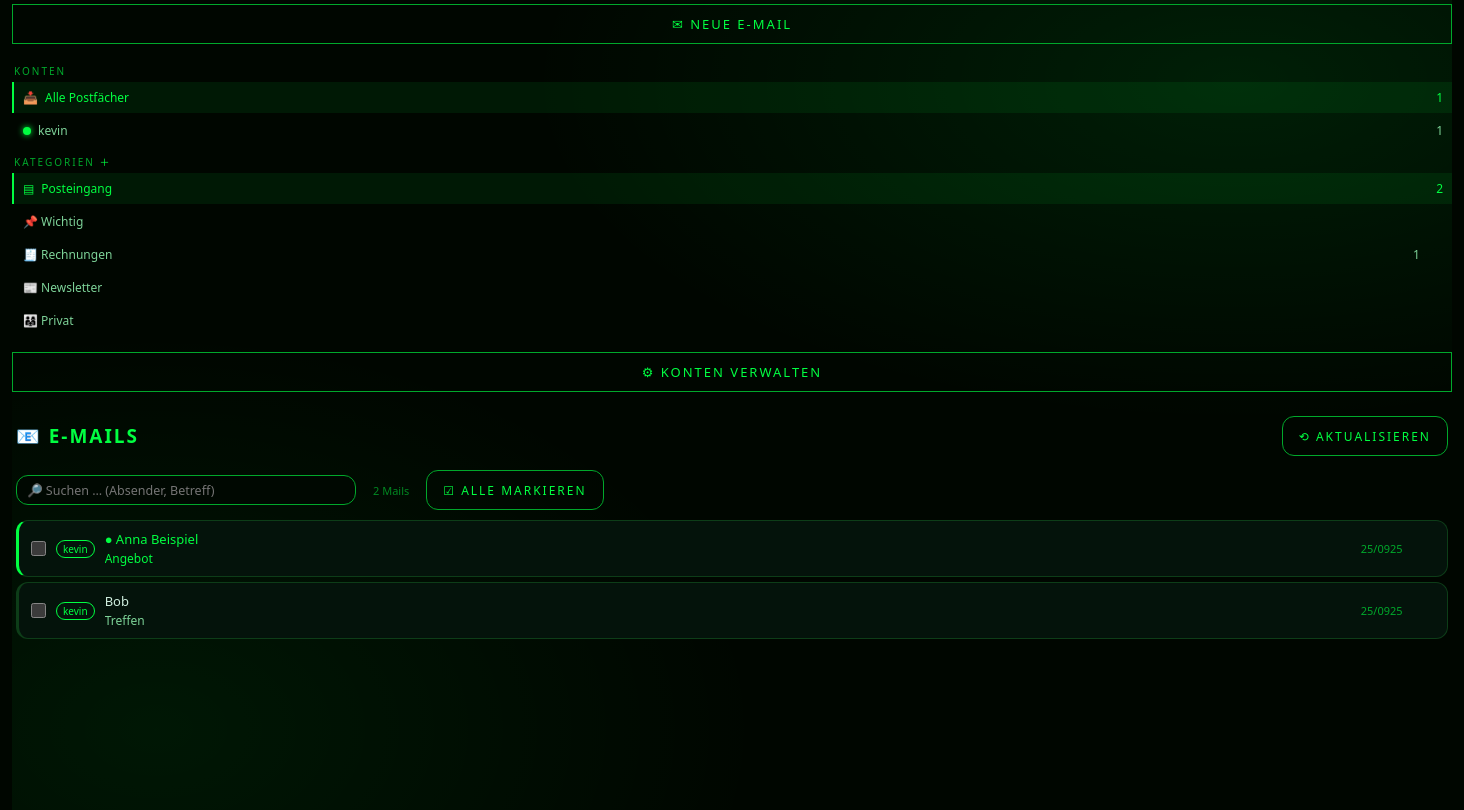
Test: Lesen und Schreiben › Neue E-Mail: ohne Empfänger kein Versand; Serverfehler wird gezeigt
This screenshot has width=1464, height=810.
expect the text "Angebot" is shown: met, box [105,550,153,567]
Step 1. Click the button "✉ NEUE E-MAIL" → click(732, 24), box [12,4,1452,44]
(page scrolled)
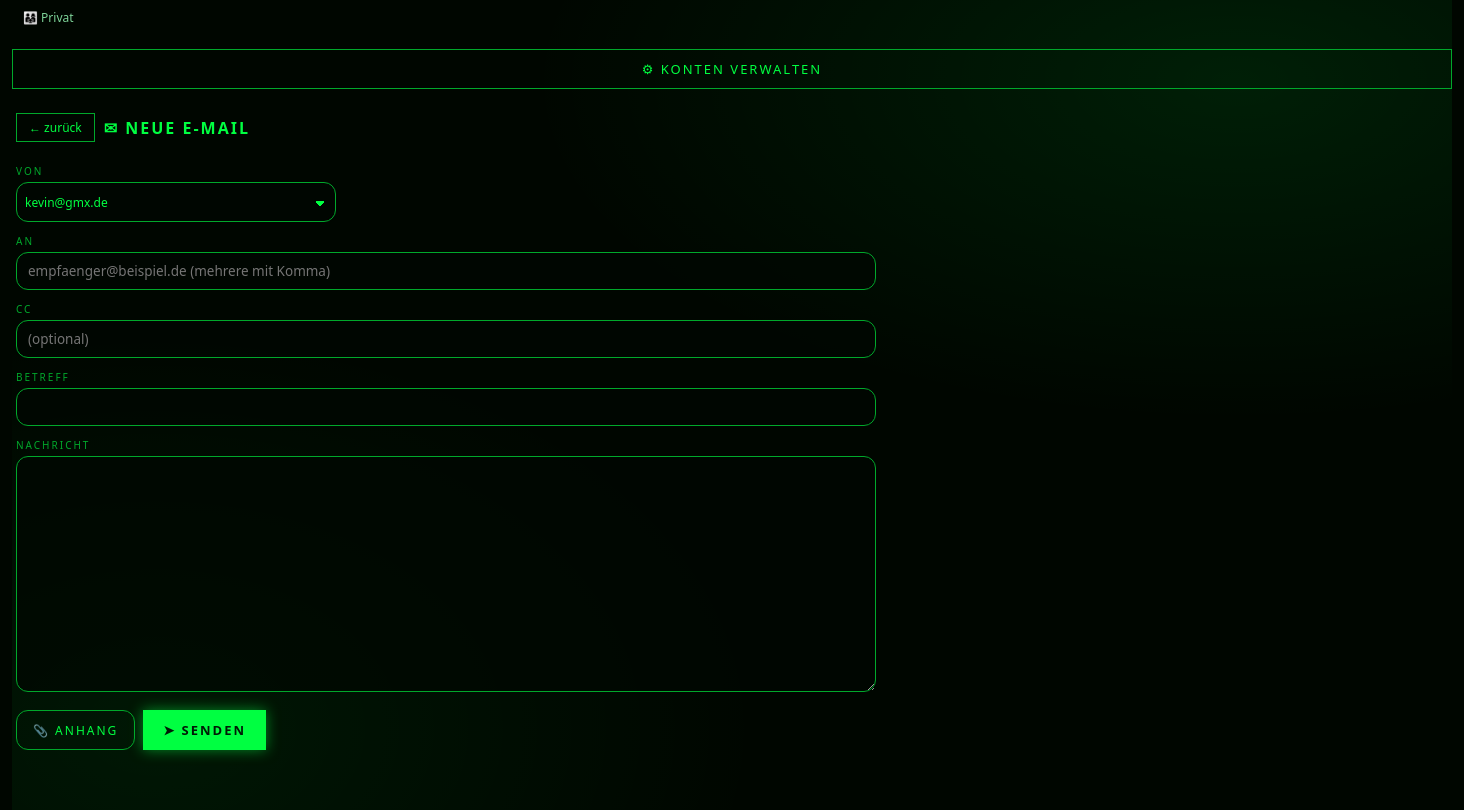
expect the heading "✉ NEUE E-MAIL" is shown: met, box [104,116,250,138]
Step 2. Click the button "➤ SENDEN" → click(205, 730), box [143,710,266,750]
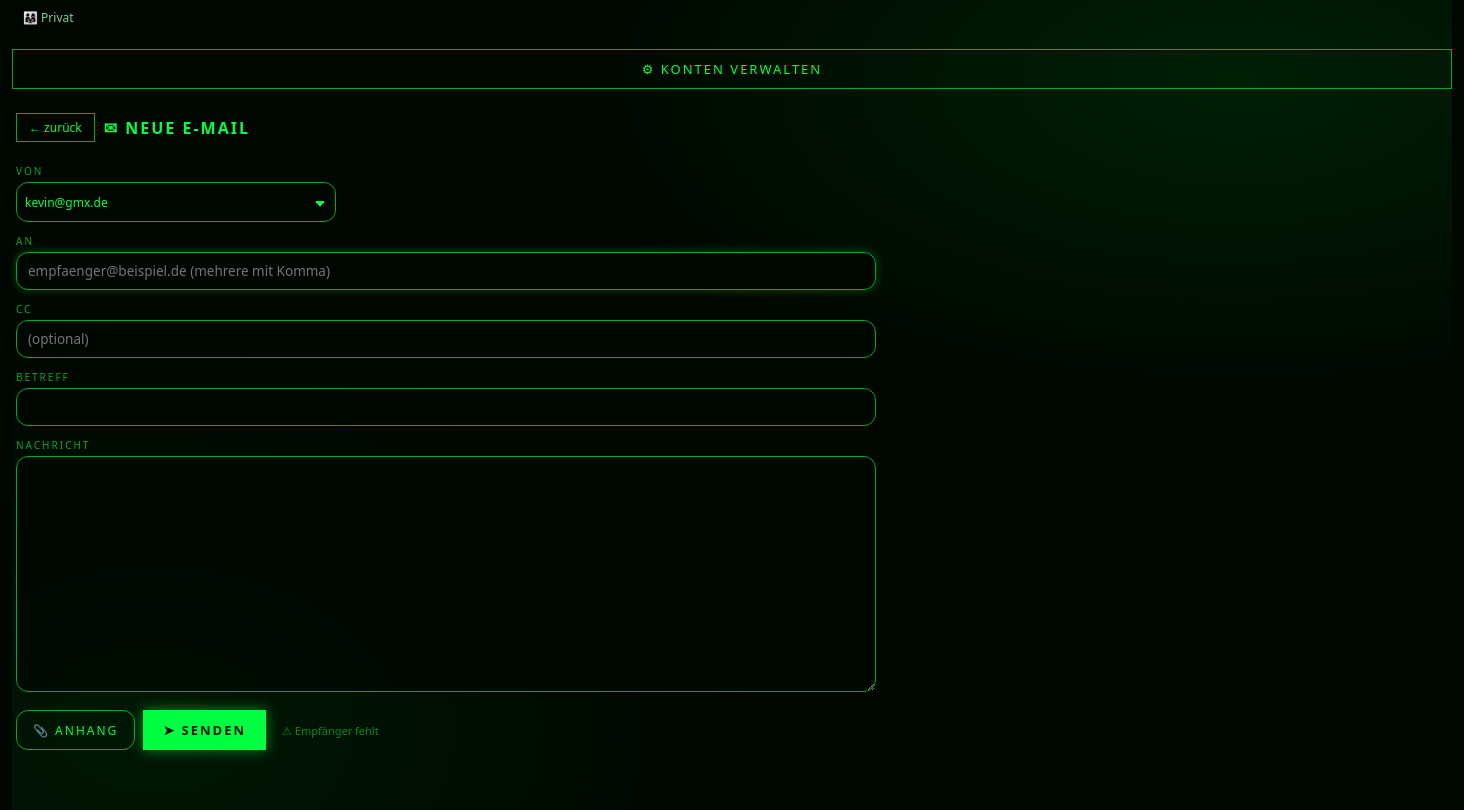
expect the text "⚠ Empfänger fehlt" is shown: met, box [282,722,379,738]
Step 3. Type "kaputt" into the field labelled "AN" → (446, 271), box [16,252,876,290]
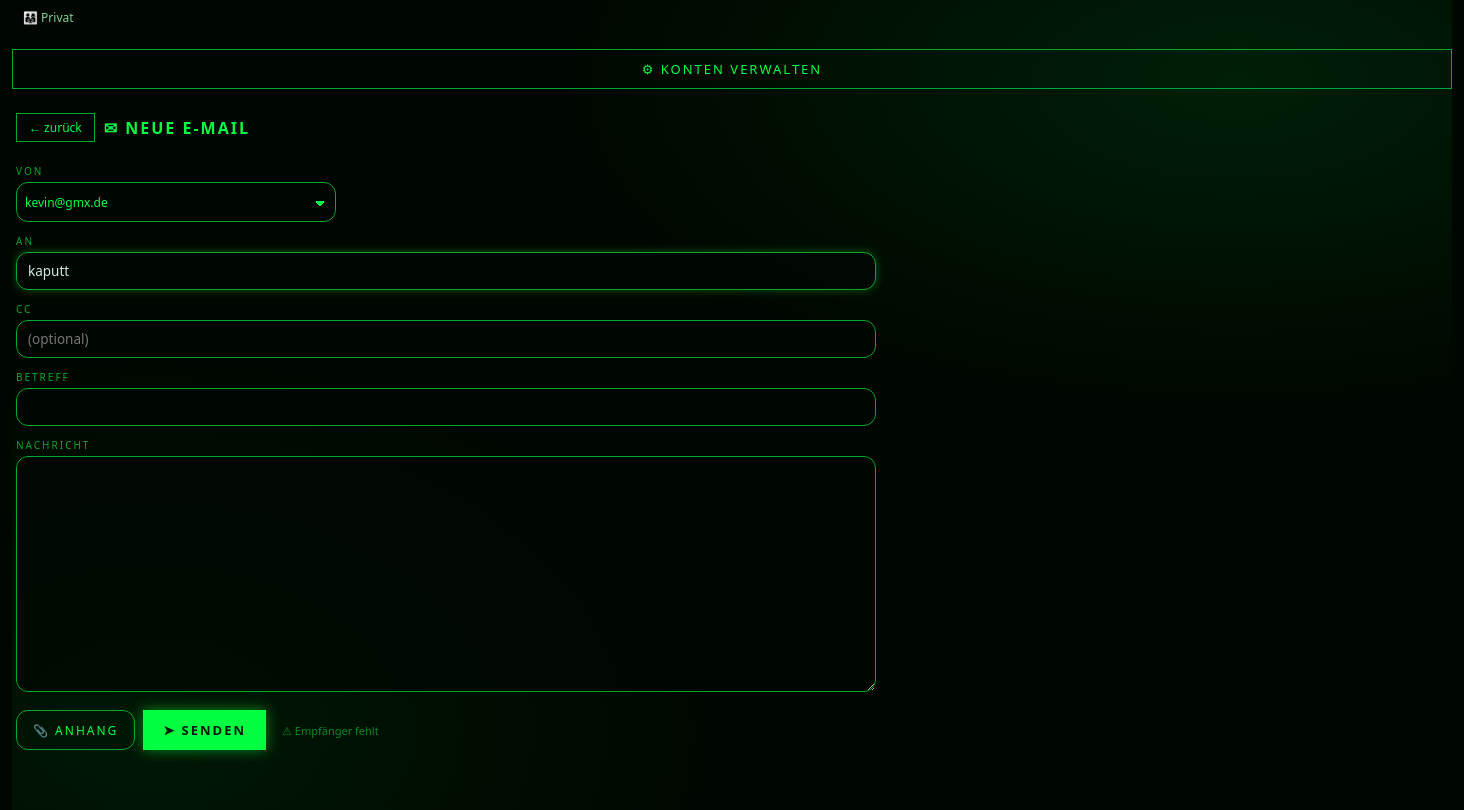
Step 4. Click the button "➤ SENDEN" → click(205, 730), box [143,710,266,750]
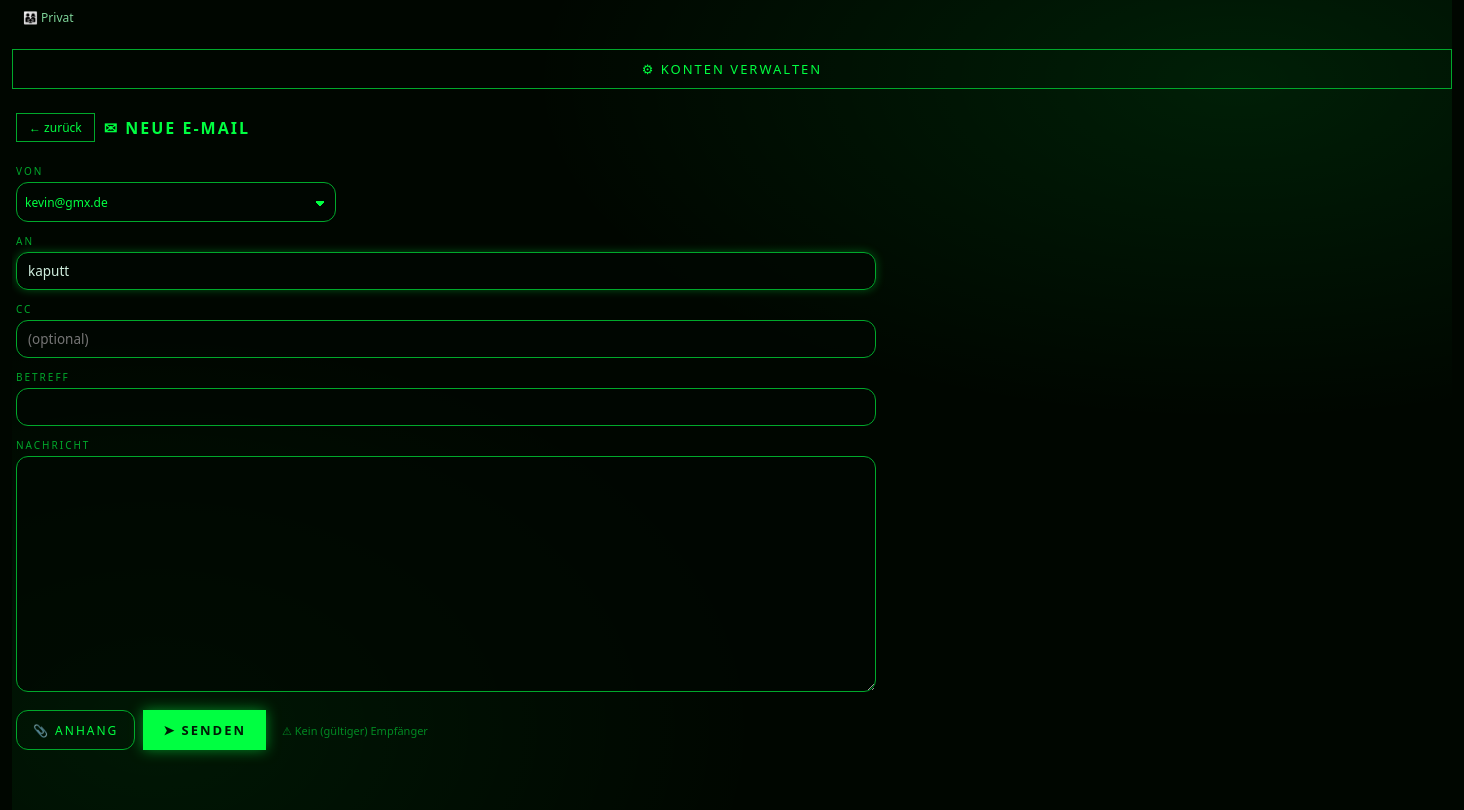
expect the button "➤ SENDEN" is enabled: met, box [143,710,266,750]
expect the text "⚠ Kein (gültiger) Empfänger" is shown: met, box [282,722,428,738]
